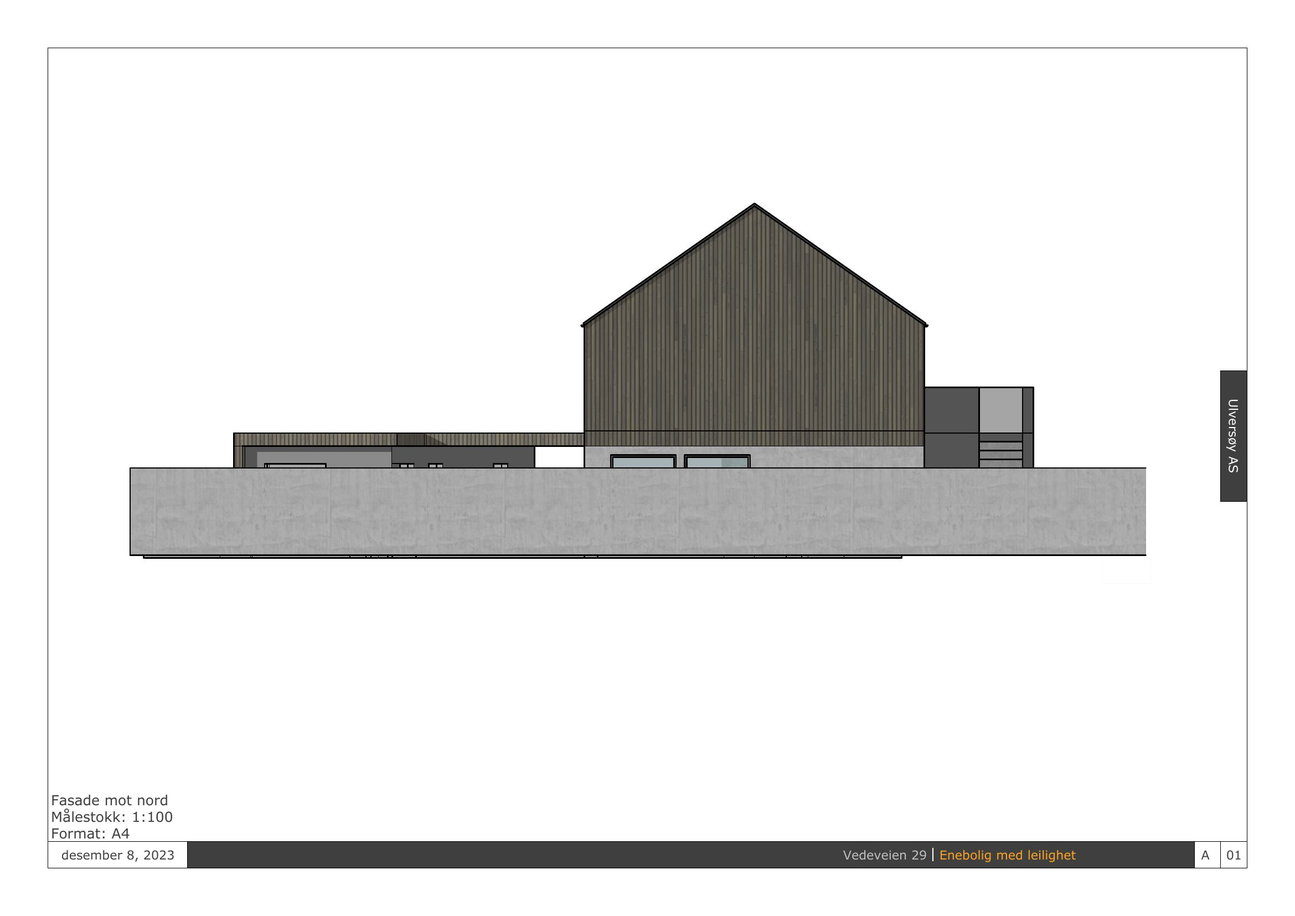fasade: (128, 202, 1148, 559)
